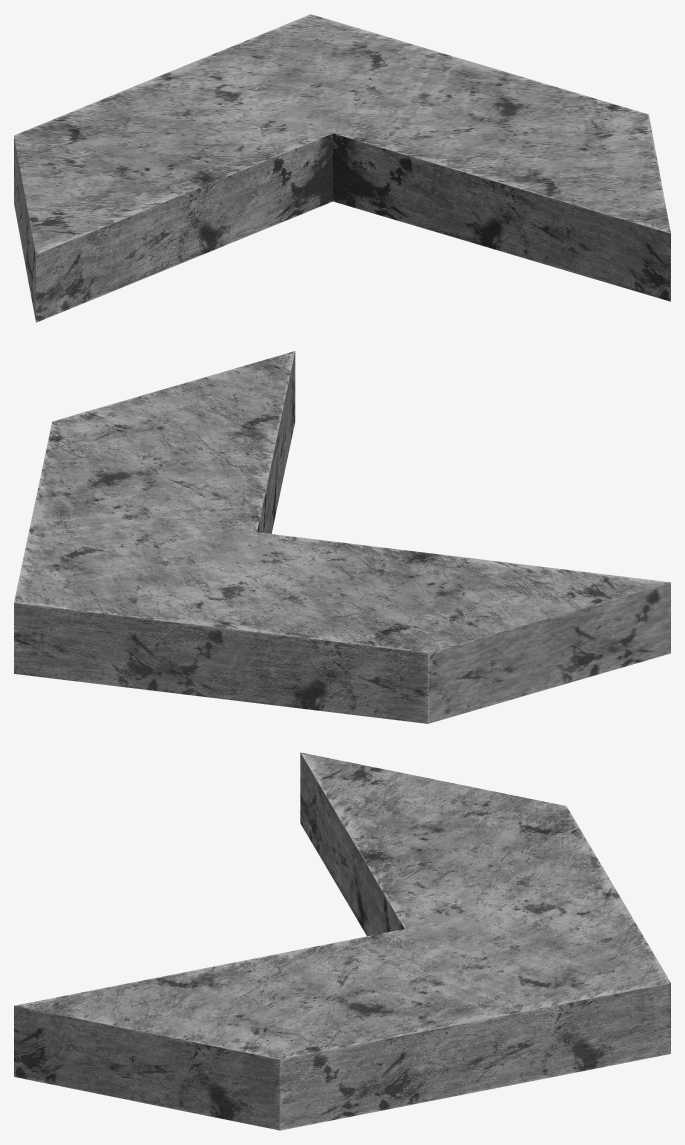
Rendered from newpinball_switch.fbx.
3 renders of one model, top to bottom at view 1: azimuth 30°, elevation 25°; view 2: azimuth 150°, elevation 25°; view 3: azimuth 270°, elevation 25°, orthographic. The views are drawn at different scales.
Visible parts, largest first — view 1: switch; view 2: switch; view 3: switch.
Boxes of the visible parts, x1=… form: switch: x1=14, y1=14, x2=670, y2=322; switch: x1=14, y1=351, x2=670, y2=723; switch: x1=14, y1=752, x2=670, y2=1130.
Size of the model in its own units: 12.31 by 1.33 by 11.13.
